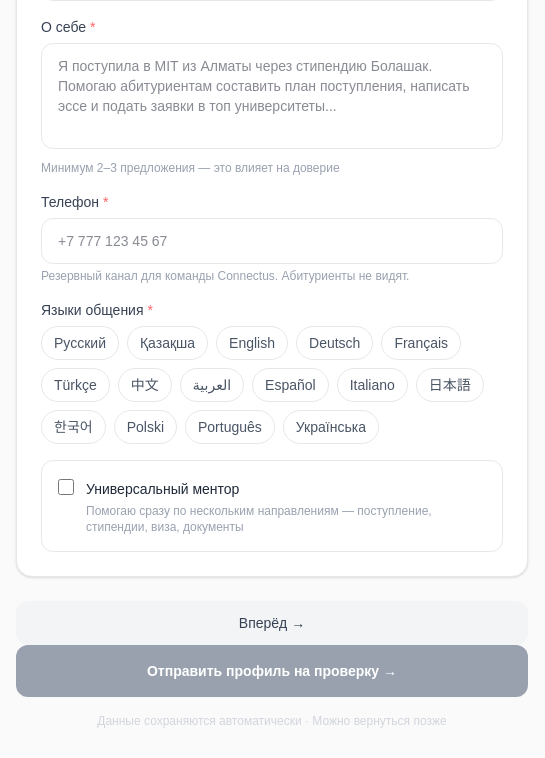
Test case: MentorOnboarding › shows a save error when toggling the universal-mentor checkbox fails
(page scrolled)
Expected: the text "Универсальный ментор" is shown, [86, 481, 239, 497]
What coordinates should you click on to do the following:
click the checkbox
I would click on:
 (66, 487)
Its box is [58, 479, 74, 495].
(page scrolled)
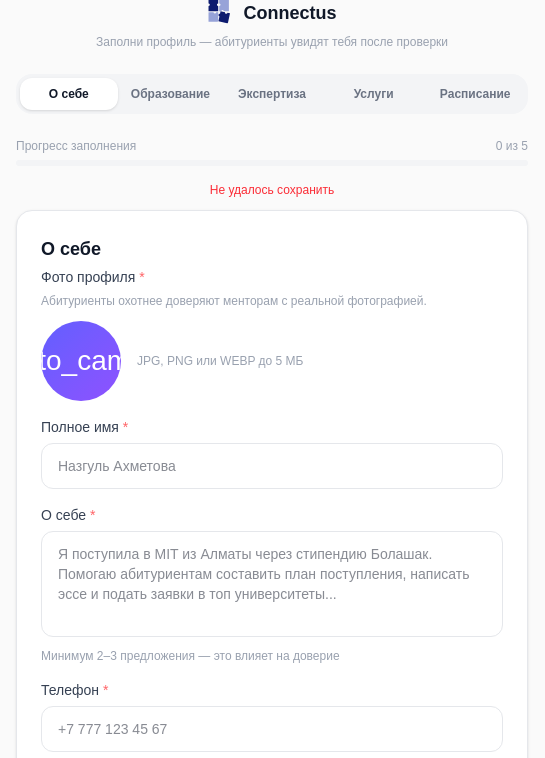
Result: the text "Не удалось сохранить" is shown at [210, 183, 334, 197]
